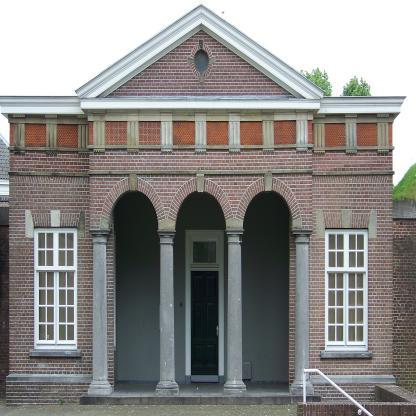Building Outline: (0, 3, 407, 406)
Cornice: (75, 3, 325, 108), (321, 209, 372, 228), (30, 209, 80, 226)
Door: (173, 190, 228, 397), (241, 190, 296, 396), (106, 190, 160, 396), (191, 270, 219, 382)
Facade: (10, 99, 392, 404)
Floor Slab: (10, 99, 393, 108)
Ground Floor: (10, 107, 393, 404)
Molding: (7, 109, 389, 155)
Pillar: (87, 229, 113, 395), (290, 228, 314, 395), (156, 229, 180, 395), (224, 229, 246, 395)
Sill: (29, 348, 82, 357), (320, 350, 373, 358)
Top Floor: (95, 23, 306, 107)
Window: (34, 226, 77, 350), (325, 228, 368, 351), (191, 238, 219, 270)
dont: (302, 368, 374, 416)
